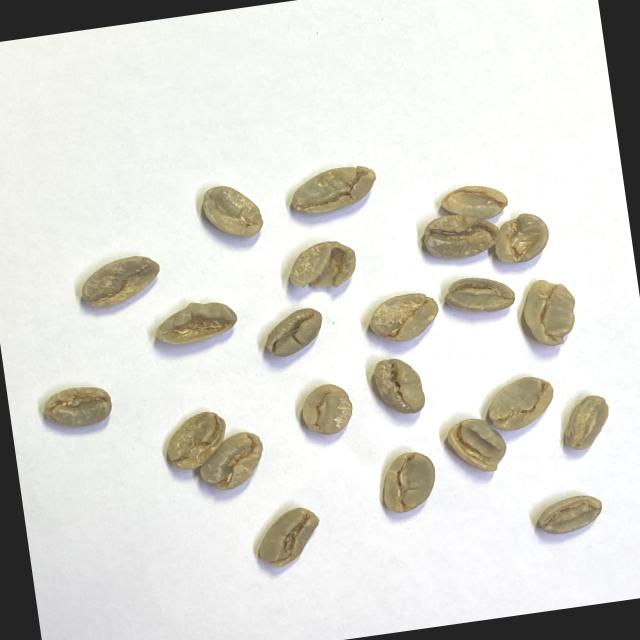bad: (286, 160, 382, 220), (76, 251, 165, 311), (252, 502, 326, 572), (150, 294, 241, 350), (518, 274, 583, 352), (195, 428, 270, 494), (483, 372, 560, 436), (364, 288, 444, 348), (442, 412, 512, 480), (160, 408, 232, 474), (283, 236, 361, 296), (420, 208, 503, 264), (376, 448, 442, 517), (198, 178, 266, 244), (38, 381, 116, 434), (369, 352, 429, 420), (488, 208, 554, 268), (259, 305, 328, 361), (298, 378, 358, 439), (556, 392, 616, 453), (442, 270, 518, 318), (534, 491, 608, 538), (438, 180, 512, 226)
